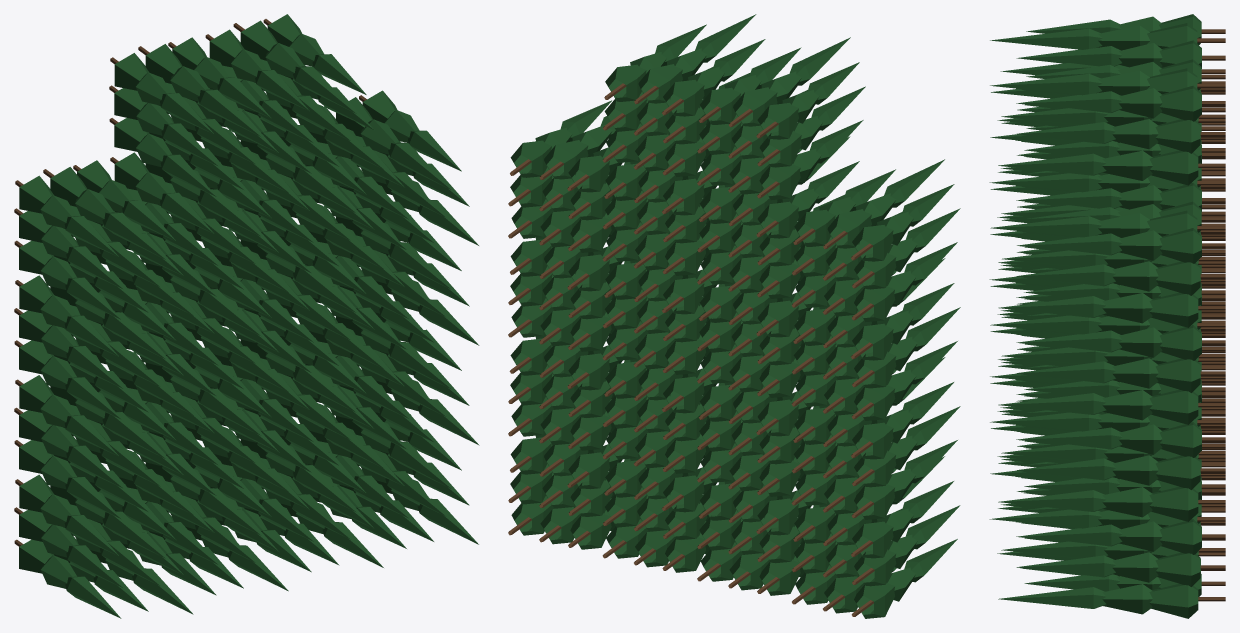
The model's file is construction_2.glb.
3 views of the same model, side by side, from view 1: azimuth 30°, elevation 25°; view 2: azimuth 150°, elevation 25°; view 3: azimuth 270°, elevation 25° (orthographic). The views are drawn at different scales.
Parts seen in each view (by area): view 1: t14_g16.002, t03_g16.002, t00_g16.002, t01_g16.002, t02_g16.002, t24_g16.002, t33_g16.002, t13_g16.002, t23_g16.002, t21_g16.002, t32_g16.002, t10_g16.002 (+6 smaller); view 2: t03_g16.002, t14_g16.002, t24_g16.002, t01_g16.002, t02_g16.002, t00_g16.002, t33_g16.002, t13_g16.002, t12_g16.002, t20_g16.002, t10_g16.002, t23_g16.002 (+6 smaller); view 3: t24_g16.002, t33_g16.002, t30_g16.002, t31_g16.002, t32_g16.002, t14_g16.002, t23_g16.002, t21_g16.002, t20_g16.002, t22_g16.002, t13_g16.002, t03_g16.002 (+6 smaller).
Boxes of the visible parts, bbox=[...] form: t14_g16.002: bbox=[109, 37, 288, 196]; t03_g16.002: bbox=[14, 160, 193, 319]; t00_g16.002: bbox=[14, 474, 193, 618]; t01_g16.002: bbox=[14, 375, 193, 518]; t02_g16.002: bbox=[14, 275, 193, 419]; t24_g16.002: bbox=[205, 14, 383, 173]; t33_g16.002: bbox=[305, 90, 478, 249]; t13_g16.002: bbox=[110, 152, 288, 296]; t23_g16.002: bbox=[210, 129, 383, 272]; t21_g16.002: bbox=[210, 328, 384, 472]; t32_g16.002: bbox=[305, 206, 479, 349]; t10_g16.002: bbox=[115, 452, 288, 595]; t03_g16.002: bbox=[791, 159, 960, 322]; t14_g16.002: bbox=[697, 37, 865, 200]; t24_g16.002: bbox=[602, 14, 765, 176]; t01_g16.002: bbox=[791, 357, 960, 519]; t02_g16.002: bbox=[791, 258, 960, 420]; t00_g16.002: bbox=[792, 456, 960, 618]; t33_g16.002: bbox=[508, 100, 630, 252]; t13_g16.002: bbox=[697, 136, 859, 298]; t12_g16.002: bbox=[697, 280, 819, 397]; t20_g16.002: bbox=[602, 455, 724, 572]; t10_g16.002: bbox=[697, 478, 819, 595]; t23_g16.002: bbox=[602, 158, 724, 275]; t24_g16.002: bbox=[990, 59, 1225, 185]; t33_g16.002: bbox=[990, 201, 1225, 327]; t30_g16.002: bbox=[989, 499, 1225, 618]; t31_g16.002: bbox=[990, 402, 1225, 521]; t32_g16.002: bbox=[990, 305, 1225, 424]; t14_g16.002: bbox=[990, 14, 1225, 127]; t23_g16.002: bbox=[989, 163, 1225, 269]; t21_g16.002: bbox=[990, 362, 1225, 463]; t20_g16.002: bbox=[990, 459, 1225, 560]; t22_g16.002: bbox=[989, 265, 1225, 366]; t13_g16.002: bbox=[990, 123, 1225, 221]; t03_g16.002: bbox=[991, 81, 1225, 176].
Bounding box in the file's own units: 63.63 × 80.4 × 35.36.
